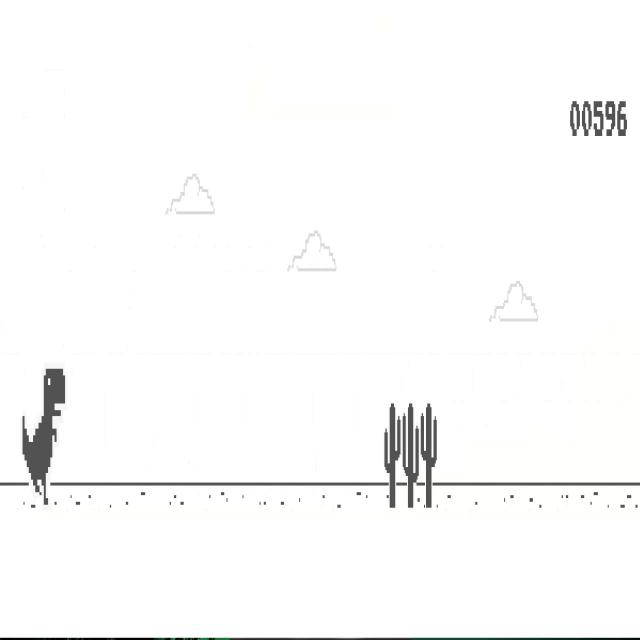cacto: (420, 403, 438, 509), (384, 403, 401, 509), (402, 403, 419, 509)
dino: (23, 368, 66, 506)
